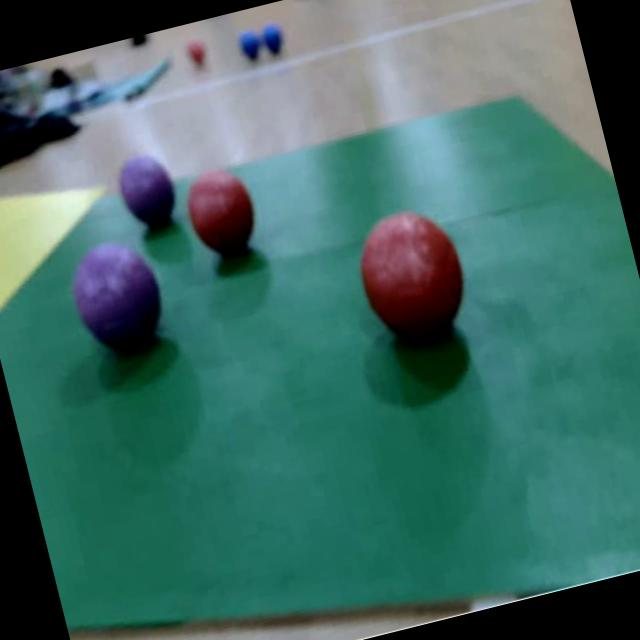blue_ball: (258, 20, 288, 58), (239, 29, 265, 63)
purple_ball: (61, 230, 176, 368), (113, 146, 183, 235)
red_ball: (345, 200, 481, 362), (180, 164, 268, 272), (182, 34, 210, 66)
